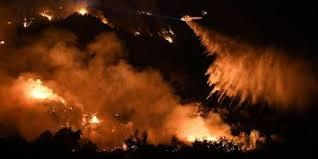fire: (22, 75, 66, 105)
